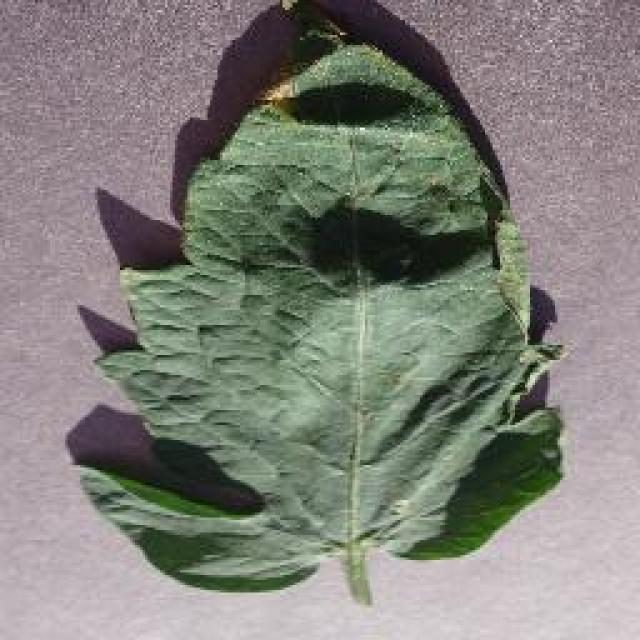Tomato Septoria spot leaf: (74, 1, 564, 594)
